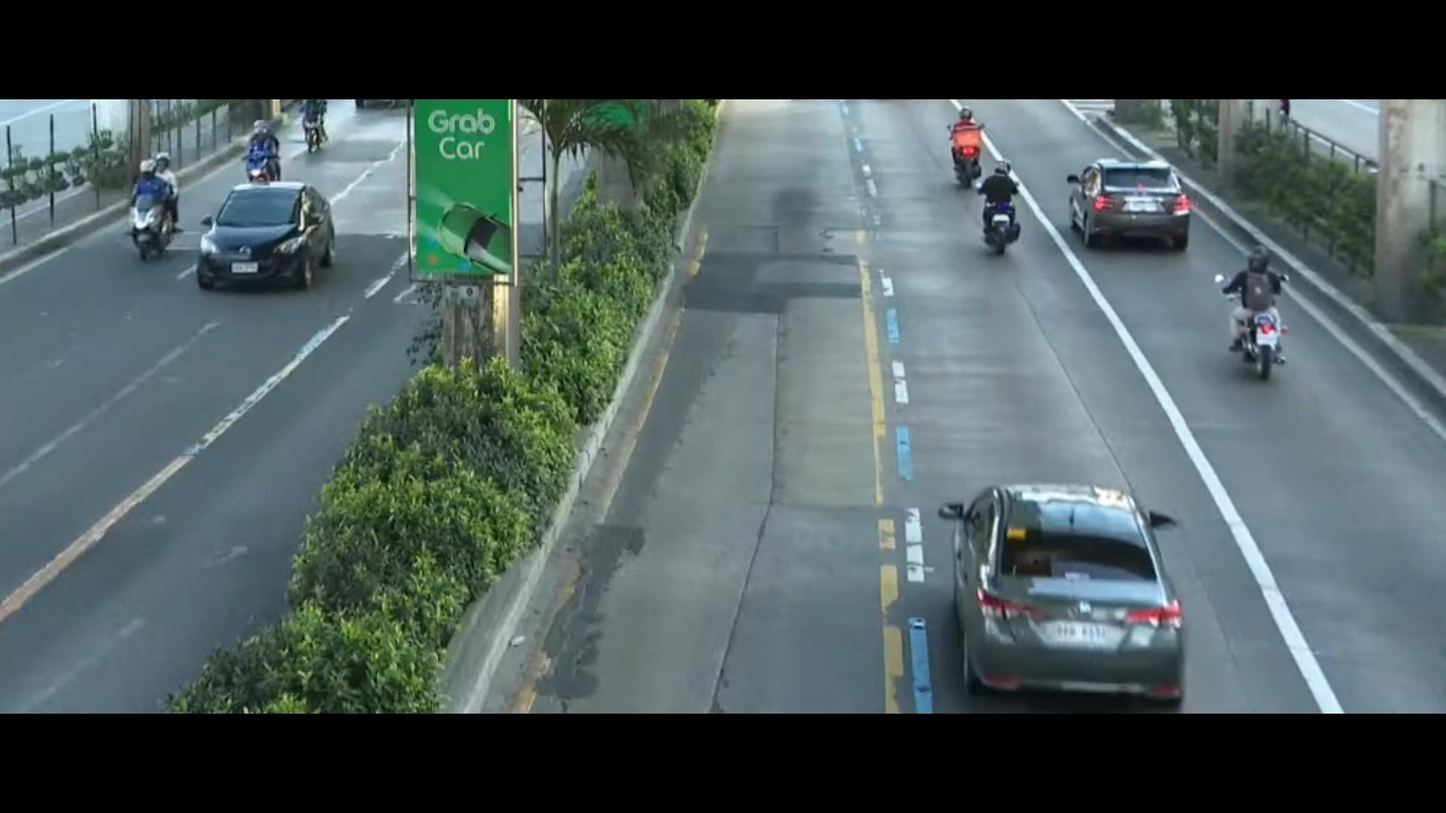Motorcycle: (1204, 241, 1318, 384), (951, 159, 1052, 264), (117, 133, 191, 252), (208, 103, 299, 190), (925, 103, 1005, 192), (288, 93, 349, 165)
Sedan: (894, 407, 1238, 707), (179, 166, 357, 314), (1055, 144, 1200, 266)
